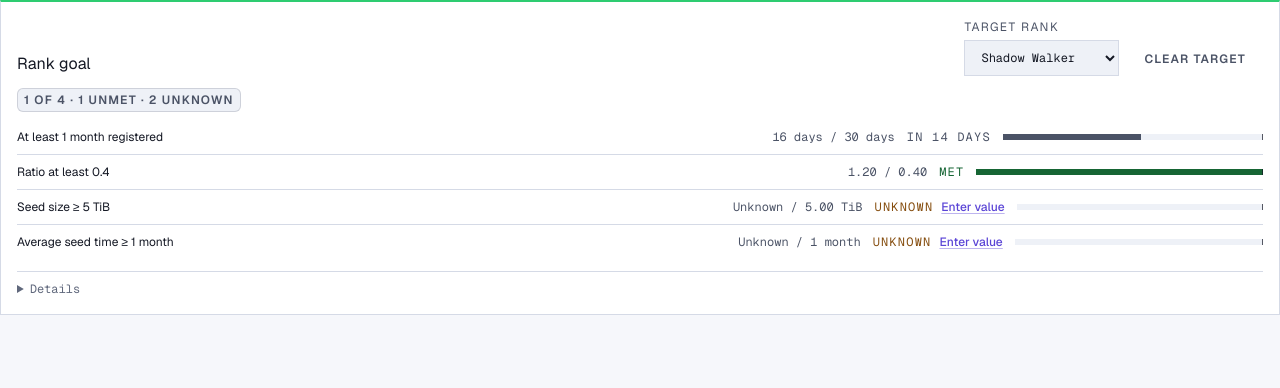
Test: RankGoalPanel › puts Enter value inline next to Unknown
Expected: the list item "Seed size ≥ 5 TiB" is shown, 17,199 -> 110,215
Expected: the text "Unknown" next to "5.00 TiB" is shown, 874,199 -> 933,215
What coordinates should you click on to do the following:
click the button "Enter value" in the row of "5.00 TiB"
I would click on:
 (973, 207)
Its box is 941,198 -> 1005,216.
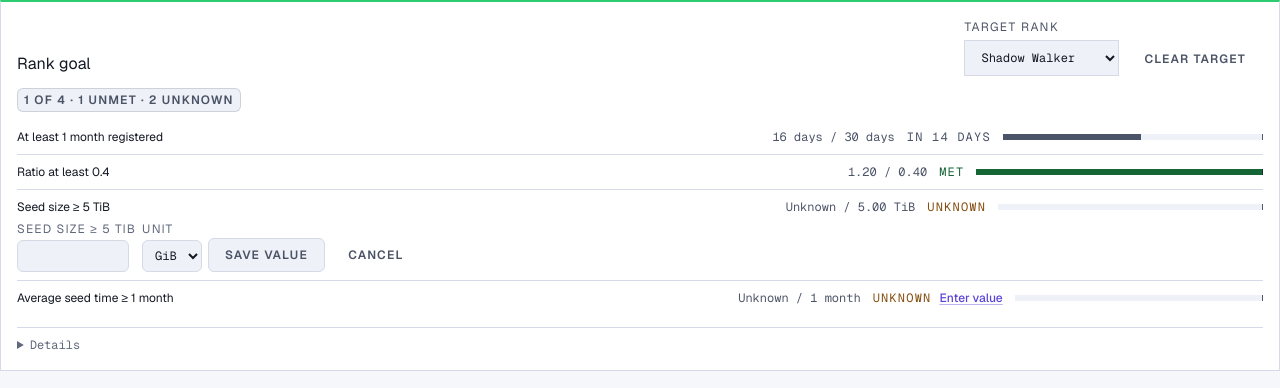
Expected: the element showing "Details" is shown, 17,327 -> 1263,354
Expected: the field named "Value for Seed size ≥ 5 TiB on DreadVault" is shown, 17,240 -> 129,272
